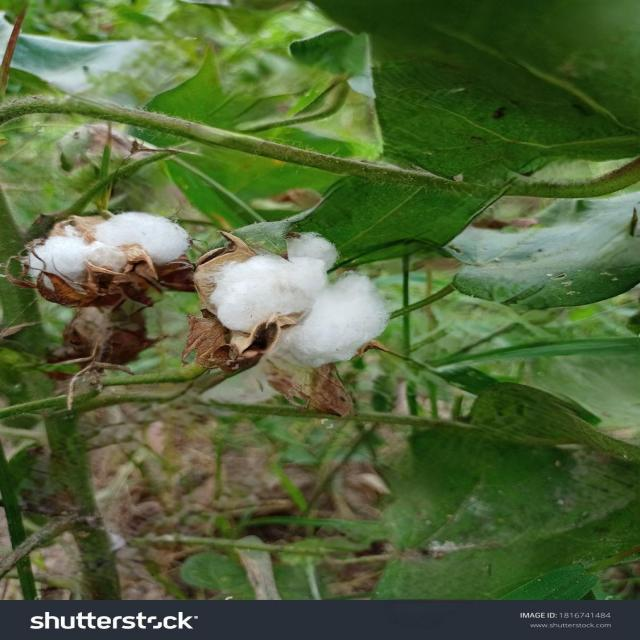Late_blight: (163, 210, 412, 408), (0, 195, 198, 323)
